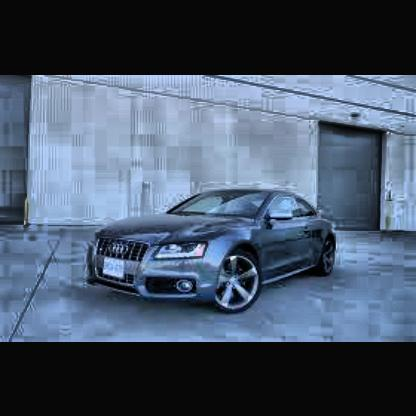Audi S5 Coupe 2012: (90, 189, 339, 313)
